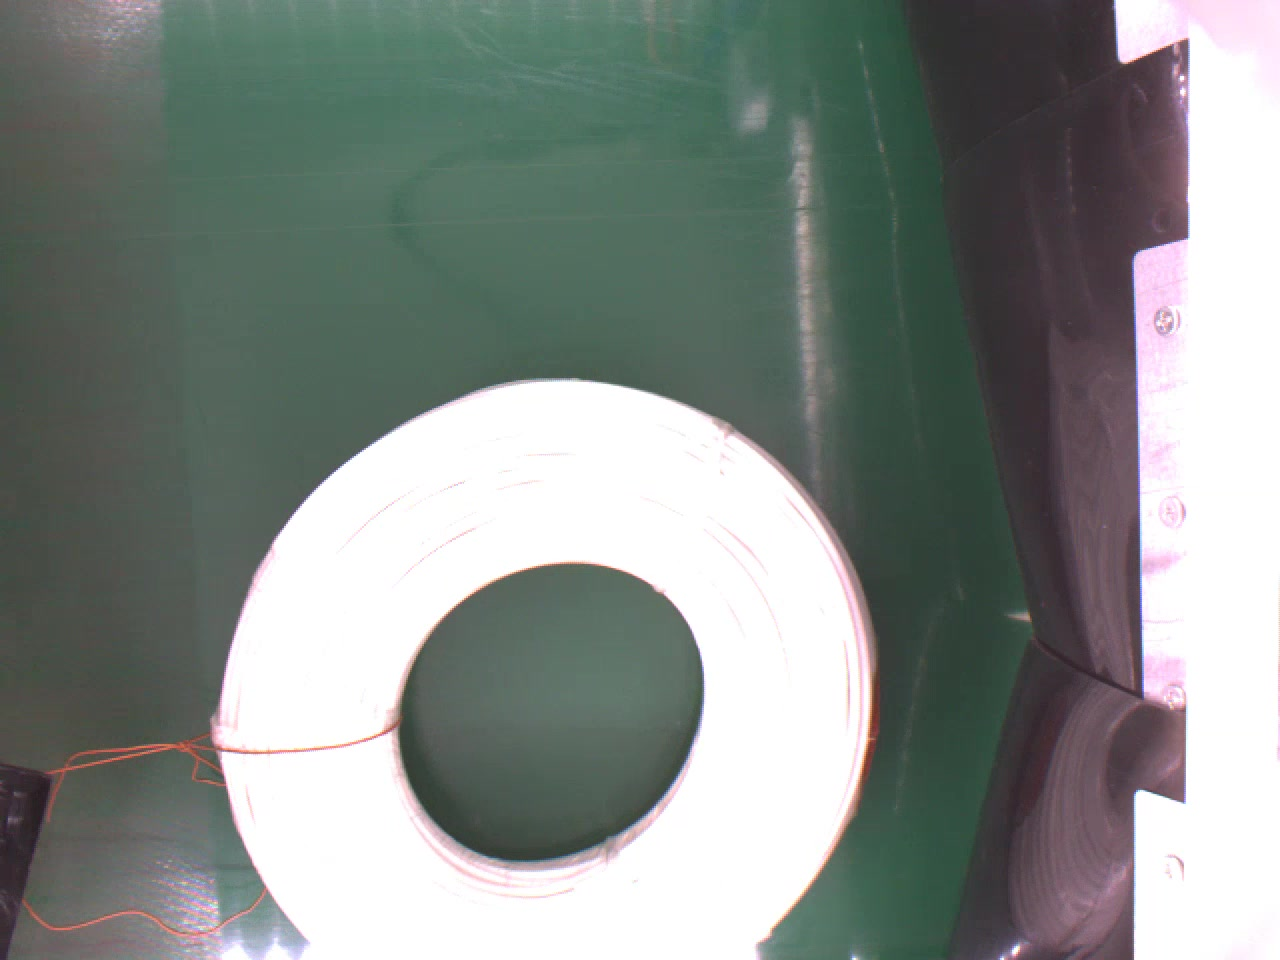white: (207, 374, 883, 960)
